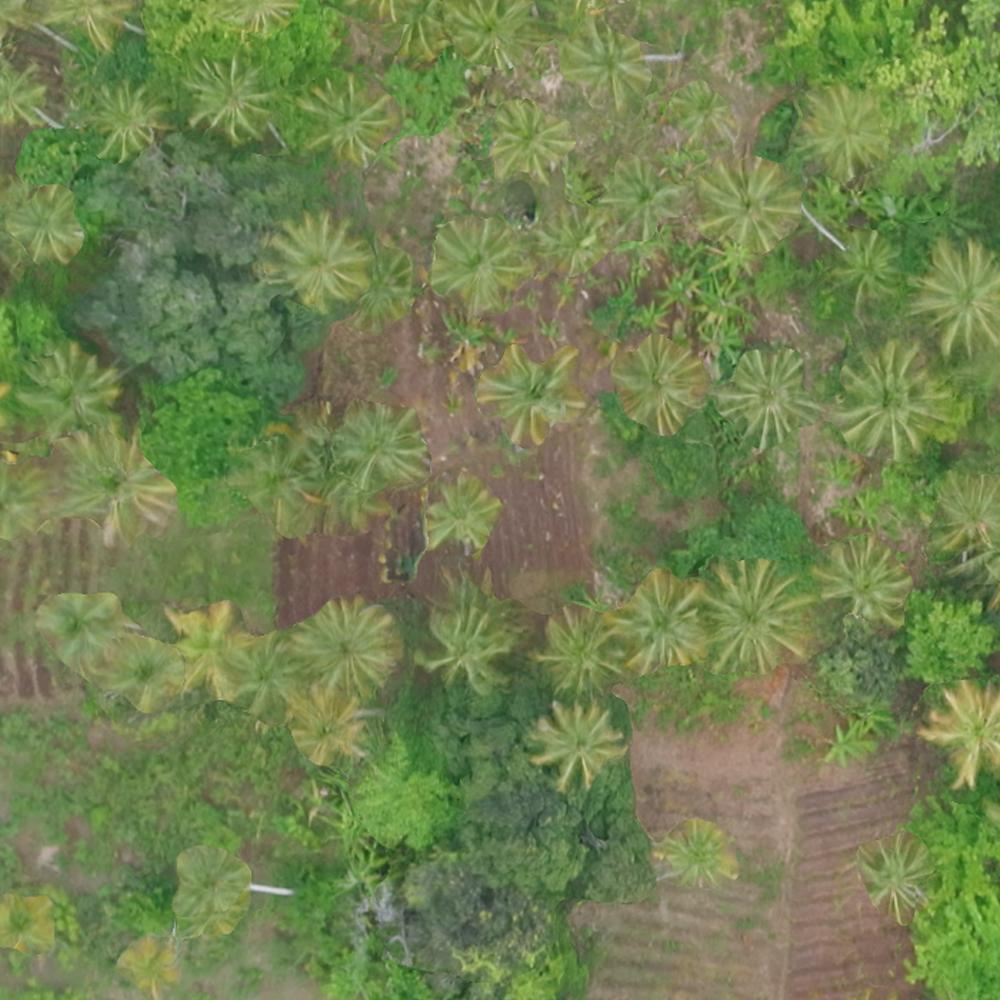Palm: (55, 426, 168, 541), (837, 342, 944, 454), (704, 559, 802, 673), (910, 239, 1000, 350), (604, 571, 699, 674), (700, 152, 794, 251), (298, 599, 392, 697), (15, 347, 118, 436), (267, 212, 364, 306), (812, 538, 910, 631), (166, 602, 257, 698), (482, 349, 578, 440), (421, 596, 510, 691), (530, 699, 626, 786), (798, 85, 890, 175), (558, 19, 651, 105), (433, 217, 517, 310), (298, 75, 387, 162), (332, 399, 420, 484), (926, 683, 1000, 784), (619, 335, 699, 425), (534, 608, 619, 692), (484, 100, 571, 179), (726, 352, 807, 435), (182, 57, 267, 135), (929, 467, 1000, 560), (84, 77, 163, 159), (449, 1, 534, 74), (601, 155, 682, 229), (291, 688, 369, 764), (822, 227, 900, 298), (426, 471, 498, 547), (11, 185, 79, 262), (659, 818, 729, 886), (663, 78, 734, 135)
